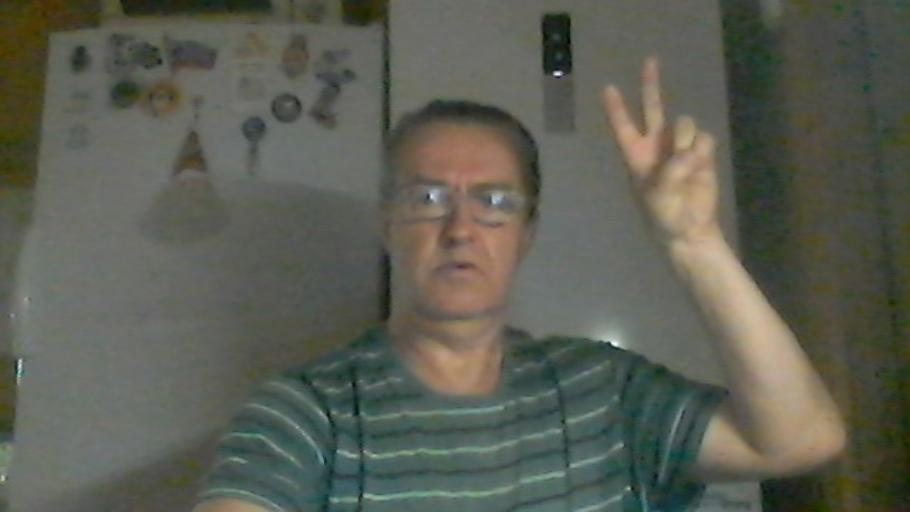peace: (598, 52, 724, 239)
